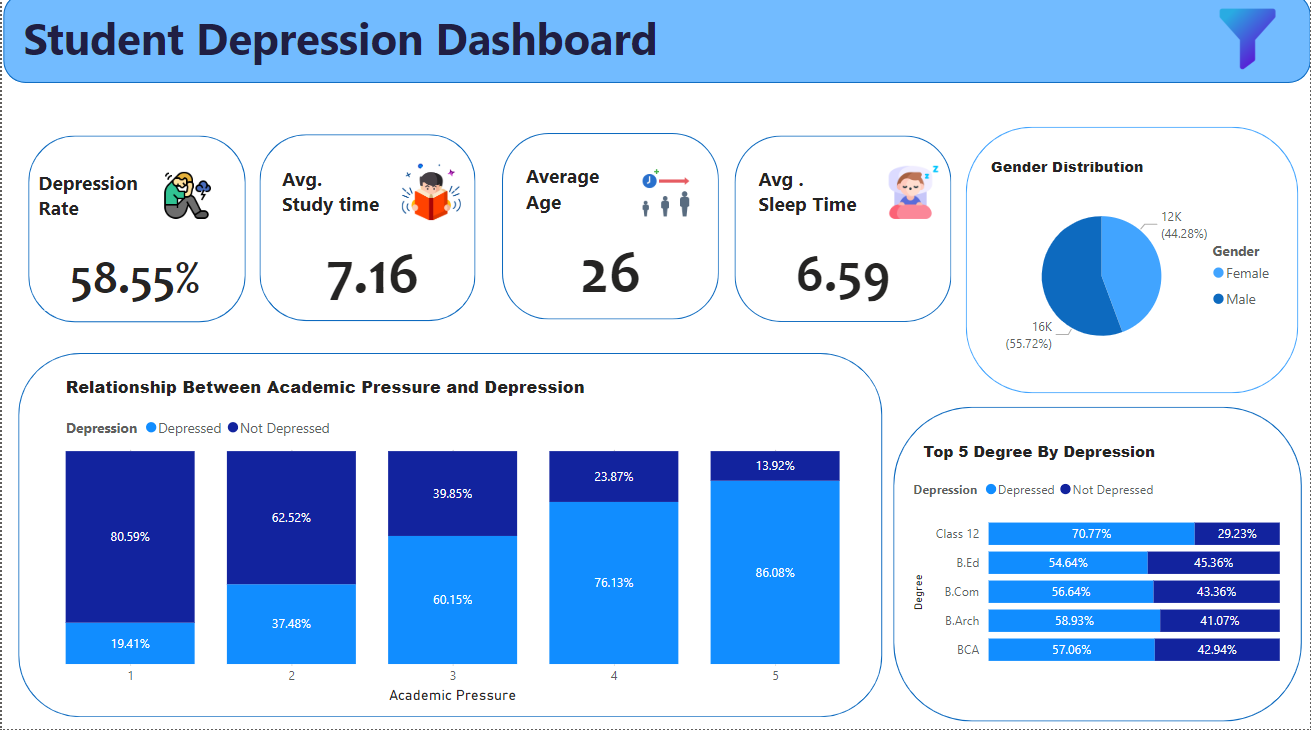

What the dashboard file says about the page in this screenshot:
{"tool":"powerbi","page":{"name":"Duplicate of Page 2","canvas":[1280,720],"ordinal":1},"visuals":[{"type":"shape","box":[701.4,34.8,182.5,165.1],"z":0,"group":"g2"},{"type":"shape","box":[486.7,37.3,191.1,161.5],"z":0,"group":"g4"},{"type":"shape","box":[273.6,38.4,190.3,161.8],"z":0,"group":"g1"},{"type":"shape","box":[63.4,38.9,196.5,161.7],"z":0,"group":"g3"},{"type":"shape","box":[899.2,63.4,363.2,221.4],"z":0},{"type":"textbox","box":[717.4,57.3,98.2,57.3],"z":1000,"group":"g2"},{"type":"textbox","box":[503.4,59.3,117.3,56],"z":1000,"group":"g4"},{"type":"textbox","box":[69.1,70.7,108.5,56.1],"z":1000,"group":"g3"},{"type":"card","fields":{"Values":["Measure Table.Avg Study Hours"]},"box":[294.9,122.1,157.9,64.9],"z":1000,"group":"g1"},{"type":"shape","box":[900.4,293.5,363.2,196.5],"z":1000},{"type":"textbox","box":[289.3,61.5,105.2,55],"z":2000,"group":"g1"},{"type":"card","fields":{"Values":["Measure Table.Average Age"]},"box":[503.4,119.7,158.7,64.8],"z":2000,"group":"g4"},{"type":"card","fields":{"Values":["Avg(Student Depression Dataset.Sleep Duration Numeric)"]},"box":[717.4,120.2,151.5,66.3],"z":2000,"group":"g2"},{"type":"card","fields":{"Values":["Measure Table.Depression Rate"]},"box":[79.6,123.5,161.7,64.7],"z":2000,"group":"g3"},{"type":"shape","box":[906.7,502.5,356.9,204],"z":2000},{"type":"image","box":[825.5,56.2,53.5,58.5],"z":3000,"group":"g2"},{"type":"image","box":[394.5,57.1,60.5,62.7],"z":3000,"group":"g1"},{"type":"image","box":[601.8,63.7,60.3,51.6],"z":3000,"group":"g4"},{"type":"image","box":[177.9,72.3,59.4,51.7],"z":3000,"group":"g3"},{"type":"shape","box":[34.8,470.4,849,242.1],"z":3000},{"type":"group","id":"g1","title":"Group 1","box":[273.6,38.4,190.3,161.8],"z":4000,"group":"g4"},{"type":"shape","box":[33.6,216.4,849.4,241.3],"z":4000},{"type":"scatterChart","title":"Age VS  Academic Pressure","fields":{"X":["Student Depression Dataset.Age"],"Y":["Student Depression Dataset.Academic Pressure"]},"box":[65.9,257.4,787.3,195.3],"z":5000},{"type":"textbox","box":[83.2,224.7,248.3,34.8],"z":6000},{"type":"hundredPercentStackedColumnChart","title":"Relationship Between Dietary Habits and Depression","fields":{"Category":["Student Depression Dataset.Dietary Habits"],"Y":["CountNonNull(Student Depression Dataset.id)"],"Series":["Student Depression Dataset.Depression"]},"box":[89.5,501.2,706.4,206.5],"z":7000},{"type":"textbox","box":[83.2,474.2,454.3,31],"z":8000},{"type":"clusteredBarChart","title":"Gender Distribution by Sleep Duration","fields":{"Series":["Student Depression Dataset.Gender"],"Category":["Student Depression Dataset.Sleep Duration"],"Y":["Measure Table.Total Respondents"]},"box":[915.4,100.7,330.8,171.6],"z":9000},{"type":"textbox","box":[919.1,72.1,296,28.6],"z":10000},{"type":"barChart","title":"Top 5 Depressed Cities","fields":{"Category":["Student Depression Dataset.City"],"Y":["Student Depression Dataset.Depressed Count"]},"box":[922.8,298.5,325.8,187.8],"z":11000},{"type":"barChart","title":"Bottom 5 Depressed Cities","fields":{"Category":["Student Depression Dataset.City"],"Y":["Student Depression Dataset.Depressed Count"]},"box":[915.4,514.9,338.3,180.3],"z":12000},{"type":"group","id":"g2","title":"Group 3","box":[701.4,34.8,182.8,165.4],"z":13000},{"type":"group","id":"g3","title":"Group 4","box":[63.4,38.9,196.5,161.7],"z":14000},{"type":"group","id":"g4","title":"Group 2","box":[273.6,37.3,404.2,162.9],"z":15000},{"type":"image","box":[1215.5,3.7,63.6,57.5],"z":16000}]}

Visuals, with their boxes in screenshot pixels (x1, y1, x2, y2), scaled from the page's 1280x720 canvas onto the 1311x730 screenshot:
shape: 718,35,905,203
shape: 498,38,694,202
shape: 280,39,475,203
shape: 65,39,266,203
shape: 921,64,1293,289
textbox: 735,58,835,116
textbox: 516,60,636,117
textbox: 71,72,182,129
card - Measure Table.Avg Study Hours: 302,124,464,190
shape: 922,298,1294,497
textbox: 296,62,404,118
card - Measure Table.Average Age: 516,121,678,187
card - Avg(Student Depression Dataset.Sleep Duration Numeric): 735,122,890,189
card - Measure Table.Depression Rate: 82,125,247,191
shape: 929,509,1294,716
image: 845,57,900,116
image: 404,58,466,121
image: 616,65,678,117
image: 182,73,243,126
shape: 36,477,905,722
"Group 1" group: 280,39,475,203
shape: 34,219,904,464
"Age VS  Academic Pressure" scatterChart: 67,261,874,459
textbox: 85,228,340,263
"Relationship Between Dietary Habits and Depression" hundredPercentStackedColumnChart: 92,508,815,718
textbox: 85,481,551,512
"Gender Distribution by Sleep Duration" clusteredBarChart: 938,102,1276,276
textbox: 941,73,1245,102
"Top 5 Depressed Cities" barChart: 945,303,1279,493
"Bottom 5 Depressed Cities" barChart: 938,522,1284,705
"Group 3" group: 718,35,906,203
"Group 4" group: 65,39,266,203
"Group 2" group: 280,38,694,203
image: 1245,4,1310,62
